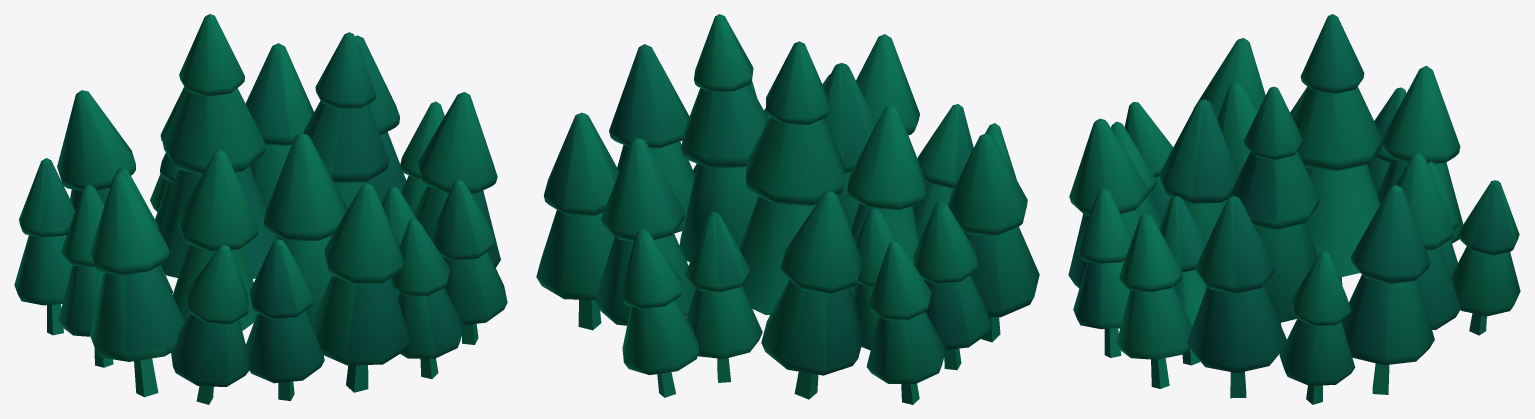
Rendered from tree_heavy_forest.glb.
The picture shows the model from 3 angles, left to right: view 1: azimuth 30°, elevation 25°; view 2: azimuth 150°, elevation 25°; view 3: azimuth 270°, elevation 25°; orthographic projection. The views are drawn at different scales.
Visible parts, largest first — view 1: forest_Cube.397; view 2: forest_Cube.397; view 3: forest_Cube.397.
Boxes of the visible parts, left/top/right/bottom form: forest_Cube.397: left=14, top=14, right=507, bottom=404; forest_Cube.397: left=536, top=14, right=1039, bottom=404; forest_Cube.397: left=1068, top=14, right=1520, bottom=404.
Size of the model in its own units: 1.93 by 1.36 by 1.9.
1 material, 1 textured.
